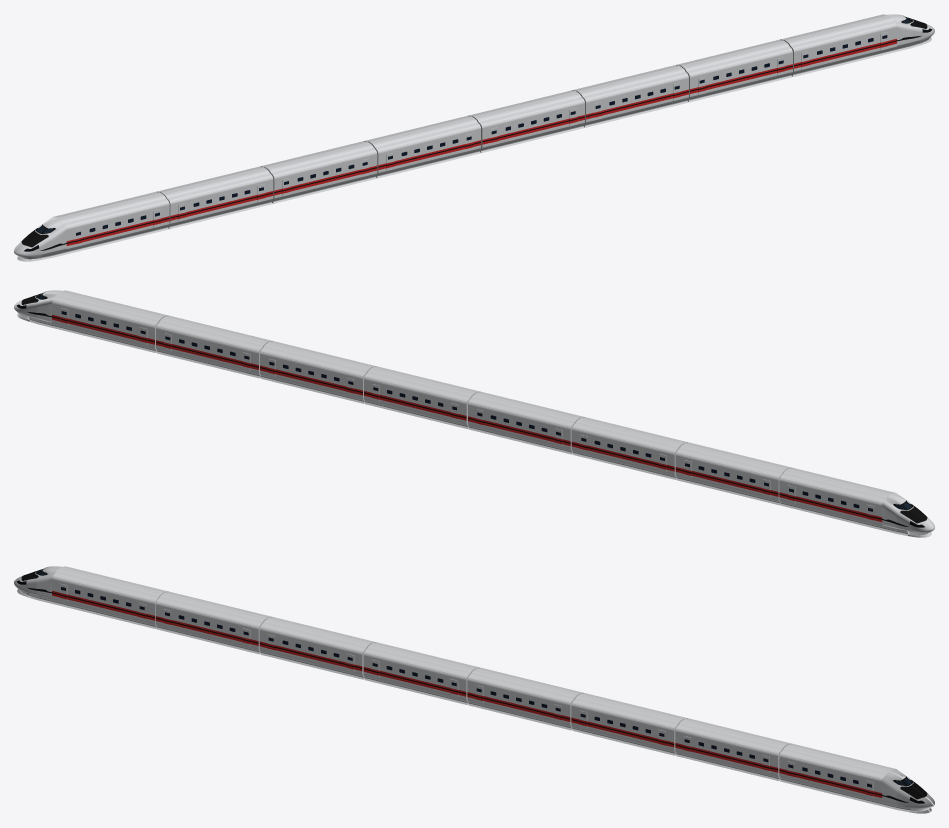
The model's file is huoche8.obj.
The picture shows the model from 3 angles, top to bottom: view 1: azimuth 30°, elevation 25°; view 2: azimuth 150°, elevation 25°; view 3: azimuth 330°, elevation 25°; orthographic projection.
Parts seen in each view (by area): view 1: Object049, Box991; view 2: Object049, Box991; view 3: Object049, Box991.
Part boxes in pixels (x1=…): Object049: x1=14, y1=14, x2=934, y2=261; Box991: x1=74, y1=32, x2=888, y2=246; Object049: x1=14, y1=290, x2=934, y2=537; Box991: x1=60, y1=308, x2=874, y2=522; Object049: x1=14, y1=566, x2=934, y2=813; Box991: x1=59, y1=583, x2=873, y2=798.
Bounding box in the file's own units: 85.53 × 2.74 × 2.44.
